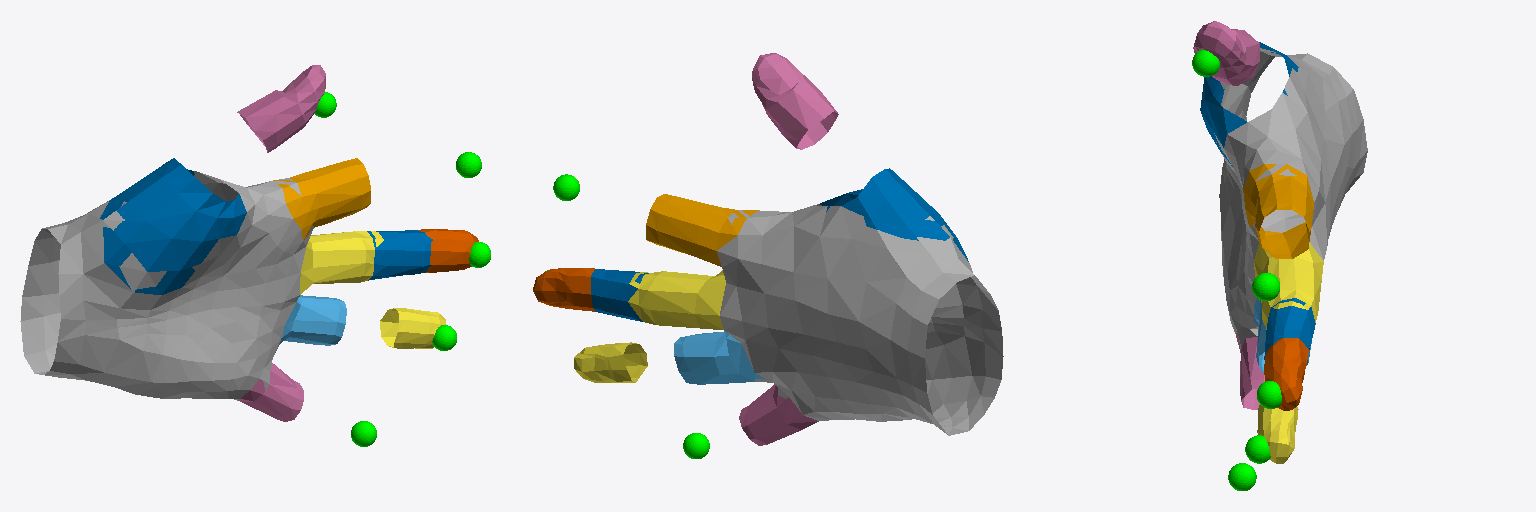
robot.urdf — mano:
<robot name="mano">
  <link name="index1y">
    <inertial>
      <origin xyz="0.0 0.0 0.0" rpy="0.0 -0.0 0.0"/>
      <mass value="0.02"/>
      <inertia ixx="1.6875e-06" ixy="0.0" ixz="0.0" iyy="1.6875e-06" iyz="0.0" izz="1.6875e-06"/>
    </inertial>
  </link>
  <link name="middle1y">
    <inertial>
      <origin xyz="0.0 0.0 0.0" rpy="0.0 -0.0 0.0"/>
      <mass value="0.02"/>
      <inertia ixx="1.6875e-06" ixy="0.0" ixz="0.0" iyy="1.6875e-06" iyz="0.0" izz="1.6875e-06"/>
    </inertial>
  </link>
  <link name="pinky1y">
    <inertial>
      <origin xyz="0.0 0.0 0.0" rpy="0.0 -0.0 0.0"/>
      <mass value="0.02"/>
      <inertia ixx="1.6875e-06" ixy="0.0" ixz="0.0" iyy="1.6875e-06" iyz="0.0" izz="1.6875e-06"/>
    </inertial>
  </link>
  <link name="ring1y">
    <inertial>
      <origin xyz="0.0 0.0 0.0" rpy="0.0 -0.0 0.0"/>
      <mass value="0.02"/>
      <inertia ixx="1.6875e-06" ixy="0.0" ixz="0.0" iyy="1.6875e-06" iyz="0.0" izz="1.6875e-06"/>
    </inertial>
  </link>
  <link name="thumb1x">
    <inertial>
      <origin xyz="0.0 0.0 0.0" rpy="0.0 -0.0 0.0"/>
      <mass value="0.02"/>
      <inertia ixx="1.6875e-06" ixy="0.0" ixz="0.0" iyy="1.6875e-06" iyz="0.0" izz="1.6875e-06"/>
    </inertial>
  </link>
  <link name="thumb1y">
    <inertial>
      <origin xyz="0.0 0.0 0.0" rpy="0.0 -0.0 0.0"/>
      <mass value="0.02"/>
      <inertia ixx="1.6875e-06" ixy="0.0" ixz="0.0" iyy="1.6875e-06" iyz="0.0" izz="1.6875e-06"/>
    </inertial>
  </link>
  <link name="thumb2y">
    <inertial>
      <origin xyz="0.0 0.0 0.0" rpy="0.0 -0.0 0.0"/>
      <mass value="0.02"/>
      <inertia ixx="1.6875e-06" ixy="0.0" ixz="0.0" iyy="1.6875e-06" iyz="0.0" izz="1.6875e-06"/>
    </inertial>
  </link>
  <link name="palm">
    <inertial>
      <origin xyz="0.0 0.0 0.0" rpy="0.0 -0.0 0.0"/>
      <mass value="0.2"/>
      <inertia ixx="1.6875e-05" ixy="0.0" ixz="0.0" iyy="1.6875e-05" iyz="0.0" izz="1.6875e-05"/>
    </inertial>
    <visual>
      <geometry>
        <mesh filename="lh_urdf_meshes/palm_vis.obj"/>
      </geometry>
      <origin xyz="0.0 0.0 0.0" rpy="0.0 -0.0 0.0"/>
    </visual>
    <collision>
      <geometry>
        <mesh filename="lh_urdf_meshes/palm_collision.obj"/>
      </geometry>
      <origin xyz="0.0 0.0 0.0" rpy="0.0 -0.0 0.0"/>
    </collision>
  </link>
  <link name="index1z">
    <inertial>
      <origin xyz="0.0 0.0 0.0" rpy="0.0 -0.0 0.0"/>
      <mass value="0.02"/>
      <inertia ixx="1.6875e-06" ixy="0.0" ixz="0.0" iyy="1.6875e-06" iyz="0.0" izz="1.6875e-06"/>
    </inertial>
    <visual>
      <geometry>
        <mesh filename="lh_urdf_meshes/index1_vis.obj"/>
      </geometry>
      <origin xyz="0.0 0.0 0.0" rpy="0.0 0.23063063711477322 0.057403650895187425"/>
    </visual>
    <collision>
      <geometry>
        <mesh filename="lh_urdf_meshes/index1_collision.obj"/>
      </geometry>
      <origin xyz="0.0 0.0 0.0" rpy="0.0 0.23063063711477322 0.057403650895187425"/>
    </collision>
  </link>
  <link name="index2">
    <inertial>
      <origin xyz="0.0 0.0 0.0" rpy="0.0 -0.0 0.0"/>
      <mass value="0.02"/>
      <inertia ixx="1.6875e-06" ixy="0.0" ixz="0.0" iyy="1.6875e-06" iyz="0.0" izz="1.6875e-06"/>
    </inertial>
    <visual>
      <geometry>
        <mesh filename="lh_urdf_meshes/index2_vis.obj"/>
      </geometry>
      <origin xyz="0.0 0.0 0.0" rpy="0.0 0.06774013160049815 -0.12180203232396047"/>
    </visual>
    <collision>
      <geometry>
        <mesh filename="lh_urdf_meshes/index2_collision.obj"/>
      </geometry>
      <origin xyz="0.0 0.0 0.0" rpy="0.0 0.06774013160049815 -0.12180203232396047"/>
    </collision>
  </link>
  <link name="index3">
    <inertial>
      <origin xyz="0.0 0.0 0.0" rpy="0.0 -0.0 0.0"/>
      <mass value="0.02"/>
      <inertia ixx="1.6875e-06" ixy="0.0" ixz="0.0" iyy="1.6875e-06" iyz="0.0" izz="1.6875e-06"/>
    </inertial>
    <visual>
      <geometry>
        <mesh filename="lh_urdf_meshes/index3_vis.obj"/>
      </geometry>
      <origin xyz="0.0 0.0 0.0" rpy="0.0 -0.00515032824277527 0.058536141823204185"/>
    </visual>
    <collision>
      <geometry>
        <mesh filename="lh_urdf_meshes/index3_collision.obj"/>
      </geometry>
      <origin xyz="0.0 0.0 0.0" rpy="0.0 -0.00515032824277527 0.058536141823204185"/>
    </collision>
  </link>
  <link name="middle1z">
    <inertial>
      <origin xyz="0.0 0.0 0.0" rpy="0.0 -0.0 0.0"/>
      <mass value="0.02"/>
      <inertia ixx="1.6875e-06" ixy="0.0" ixz="0.0" iyy="1.6875e-06" iyz="0.0" izz="1.6875e-06"/>
    </inertial>
    <visual>
      <geometry>
        <mesh filename="lh_urdf_meshes/middle1_vis.obj"/>
      </geometry>
      <origin xyz="0.0 0.0 0.0" rpy="0.0 -0.03545443625367999 0.015612804261896672"/>
    </visual>
    <collision>
      <geometry>
        <mesh filename="lh_urdf_meshes/middle1_collision.obj"/>
      </geometry>
      <origin xyz="0.0 0.0 0.0" rpy="0.0 -0.03545443625367999 0.015612804261896672"/>
    </collision>
  </link>
  <link name="middle2">
    <inertial>
      <origin xyz="0.0 0.0 0.0" rpy="0.0 -0.0 0.0"/>
      <mass value="0.02"/>
      <inertia ixx="1.6875e-06" ixy="0.0" ixz="0.0" iyy="1.6875e-06" iyz="0.0" izz="1.6875e-06"/>
    </inertial>
    <visual>
      <geometry>
        <mesh filename="lh_urdf_meshes/middle2_vis.obj"/>
      </geometry>
      <origin xyz="0.0 0.0 0.0" rpy="0.0 -0.17752220465019572 -0.05868556302164682"/>
    </visual>
    <collision>
      <geometry>
        <mesh filename="lh_urdf_meshes/middle2_collision.obj"/>
      </geometry>
      <origin xyz="0.0 0.0 0.0" rpy="0.0 -0.17752220465019572 -0.05868556302164682"/>
    </collision>
  </link>
  <link name="middle3">
    <inertial>
      <origin xyz="0.0 0.0 0.0" rpy="0.0 -0.0 0.0"/>
      <mass value="0.02"/>
      <inertia ixx="1.6875e-06" ixy="0.0" ixz="0.0" iyy="1.6875e-06" iyz="0.0" izz="1.6875e-06"/>
    </inertial>
    <visual>
      <geometry>
        <mesh filename="lh_urdf_meshes/middle3_vis.obj"/>
      </geometry>
      <origin xyz="0.0 0.0 0.0" rpy="0.0 -0.17054170067823277 0.05382083887133812"/>
    </visual>
    <collision>
      <geometry>
        <mesh filename="lh_urdf_meshes/middle3_collision.obj"/>
      </geometry>
      <origin xyz="0.0 0.0 0.0" rpy="0.0 -0.17054170067823277 0.05382083887133812"/>
    </collision>
  </link>
  <link name="pinky1z">
    <inertial>
      <origin xyz="0.0 0.0 0.0" rpy="0.0 -0.0 0.0"/>
      <mass value="0.02"/>
      <inertia ixx="1.6875e-06" ixy="0.0" ixz="0.0" iyy="1.6875e-06" iyz="0.0" izz="1.6875e-06"/>
    </inertial>
    <visual>
      <geometry>
        <mesh filename="lh_urdf_meshes/pinky1_vis.obj"/>
      </geometry>
      <origin xyz="0.0 0.0 0.0" rpy="0.0 -0.5608697975864703 0.12176378884792344"/>
    </visual>
    <collision>
      <geometry>
        <mesh filename="lh_urdf_meshes/pinky1_collision.obj"/>
      </geometry>
      <origin xyz="0.0 0.0 0.0" rpy="0.0 -0.5608697975864703 0.12176378884792344"/>
    </collision>
  </link>
  <link name="pinky2">
    <inertial>
      <origin xyz="0.0 0.0 0.0" rpy="0.0 -0.0 0.0"/>
      <mass value="0.02"/>
      <inertia ixx="1.6875e-06" ixy="0.0" ixz="0.0" iyy="1.6875e-06" iyz="0.0" izz="1.6875e-06"/>
    </inertial>
    <visual>
      <geometry>
        <mesh filename="lh_urdf_meshes/pinky2_vis.obj"/>
      </geometry>
      <origin xyz="0.0 0.0 0.0" rpy="0.0 -0.6335719573023821 -0.002928439015204585"/>
    </visual>
    <collision>
      <geometry>
        <mesh filename="lh_urdf_meshes/pinky2_collision.obj"/>
      </geometry>
      <origin xyz="0.0 0.0 0.0" rpy="0.0 -0.6335719573023821 -0.002928439015204585"/>
    </collision>
  </link>
  <link name="pinky3">
    <inertial>
      <origin xyz="0.0 0.0 0.0" rpy="0.0 -0.0 0.0"/>
      <mass value="0.02"/>
      <inertia ixx="1.6875e-06" ixy="0.0" ixz="0.0" iyy="1.6875e-06" iyz="0.0" izz="1.6875e-06"/>
    </inertial>
    <visual>
      <geometry>
        <mesh filename="lh_urdf_meshes/pinky3_vis.obj"/>
      </geometry>
      <origin xyz="0.0 0.0 0.0" rpy="0.0 -0.5771905613123103 0.03648662805398939"/>
    </visual>
    <collision>
      <geometry>
        <mesh filename="lh_urdf_meshes/pinky3_collision.obj"/>
      </geometry>
      <origin xyz="0.0 0.0 0.0" rpy="0.0 -0.5771905613123103 0.03648662805398939"/>
    </collision>
  </link>
  <link name="ring1z">
    <inertial>
      <origin xyz="0.0 0.0 0.0" rpy="0.0 -0.0 0.0"/>
      <mass value="0.02"/>
      <inertia ixx="1.6875e-06" ixy="0.0" ixz="0.0" iyy="1.6875e-06" iyz="0.0" izz="1.6875e-06"/>
    </inertial>
    <visual>
      <geometry>
        <mesh filename="lh_urdf_meshes/ring1_vis.obj"/>
      </geometry>
      <origin xyz="0.0 0.0 0.0" rpy="0.0 -0.315439108355595 0.04599601462624259"/>
    </visual>
    <collision>
      <geometry>
        <mesh filename="lh_urdf_meshes/ring1_collision.obj"/>
      </geometry>
      <origin xyz="0.0 0.0 0.0" rpy="0.0 -0.315439108355595 0.04599601462624259"/>
    </collision>
  </link>
  <link name="ring2">
    <inertial>
      <origin xyz="0.0 0.0 0.0" rpy="0.0 -0.0 0.0"/>
      <mass value="0.02"/>
      <inertia ixx="1.6875e-06" ixy="0.0" ixz="0.0" iyy="1.6875e-06" iyz="0.0" izz="1.6875e-06"/>
    </inertial>
    <visual>
      <geometry>
        <mesh filename="lh_urdf_meshes/ring2_vis.obj"/>
      </geometry>
      <origin xyz="0.0 0.0 0.0" rpy="0.0 -0.17816025261504345 -0.07172352458504394"/>
    </visual>
    <collision>
      <geometry>
        <mesh filename="lh_urdf_meshes/ring2_collision.obj"/>
      </geometry>
      <origin xyz="0.0 0.0 0.0" rpy="0.0 -0.17816025261504345 -0.07172352458504394"/>
    </collision>
  </link>
  <link name="ring3">
    <inertial>
      <origin xyz="0.0 0.0 0.0" rpy="0.0 -0.0 0.0"/>
      <mass value="0.02"/>
      <inertia ixx="1.6875e-06" ixy="0.0" ixz="0.0" iyy="1.6875e-06" iyz="0.0" izz="1.6875e-06"/>
    </inertial>
    <visual>
      <geometry>
        <mesh filename="lh_urdf_meshes/ring3_vis.obj"/>
      </geometry>
      <origin xyz="0.0 0.0 0.0" rpy="0.0 -0.31383376949637776 0.06816054587002773"/>
    </visual>
    <collision>
      <geometry>
        <mesh filename="lh_urdf_meshes/ring3_collision.obj"/>
      </geometry>
      <origin xyz="0.0 0.0 0.0" rpy="0.0 -0.31383376949637776 0.06816054587002773"/>
    </collision>
  </link>
  <link name="thumb1z">
    <inertial>
      <origin xyz="0.0 0.0 0.0" rpy="0.0 -0.0 0.0"/>
      <mass value="0.02"/>
      <inertia ixx="1.6875e-06" ixy="0.0" ixz="0.0" iyy="1.6875e-06" iyz="0.0" izz="1.6875e-06"/>
    </inertial>
    <visual>
      <geometry>
        <mesh filename="lh_urdf_meshes/thumb1_vis.obj"/>
      </geometry>
      <origin xyz="0.0 0.0 0.0" rpy="-1.400772198896638 0.6846460315390974 -0.6329395640223026"/>
    </visual>
    <collision>
      <geometry>
        <mesh filename="lh_urdf_meshes/thumb1_collision.obj"/>
      </geometry>
      <origin xyz="0.0 0.0 0.0" rpy="-1.400772198896638 0.6846460315390974 -0.6329395640223026"/>
    </collision>
  </link>
  <link name="thumb2z">
    <inertial>
      <origin xyz="0.0 0.0 0.0" rpy="0.0 -0.0 0.0"/>
      <mass value="0.02"/>
      <inertia ixx="1.6875e-06" ixy="0.0" ixz="0.0" iyy="1.6875e-06" iyz="0.0" izz="1.6875e-06"/>
    </inertial>
    <visual>
      <geometry>
        <mesh filename="lh_urdf_meshes/thumb2_vis.obj"/>
      </geometry>
      <origin xyz="0.0 0.0 0.0" rpy="-1.1284509073890594 0.4440110479448864 -0.7867444289736606"/>
    </visual>
    <collision>
      <geometry>
        <mesh filename="lh_urdf_meshes/thumb2_collision.obj"/>
      </geometry>
      <origin xyz="0.0 0.0 0.0" rpy="-1.1284509073890594 0.4440110479448864 -0.7867444289736606"/>
    </collision>
  </link>
  <link name="thumb3">
    <inertial>
      <origin xyz="0.0 0.0 0.0" rpy="0.0 -0.0 0.0"/>
      <mass value="0.02"/>
      <inertia ixx="1.6875e-06" ixy="0.0" ixz="0.0" iyy="1.6875e-06" iyz="0.0" izz="1.6875e-06"/>
    </inertial>
    <visual>
      <geometry>
        <mesh filename="lh_urdf_meshes/thumb3_vis.obj"/>
      </geometry>
      <origin xyz="0.0 0.0 0.0" rpy="-1.1422775881551688 0.45888297500015185 -0.4161802232588264"/>
    </visual>
    <collision>
      <geometry>
        <mesh filename="lh_urdf_meshes/thumb3_collision.obj"/>
      </geometry>
      <origin xyz="0.0 0.0 0.0" rpy="-1.1422775881551688 0.45888297500015185 -0.4161802232588264"/>
    </collision>
  </link>
  <joint name="j_index1y" type="revolute">
    <limit effort="100.0" velocity="100.0" lower="-0.174532925199432959" upper="0.174532925199432959"/>
    <parent link="palm"/>
    <child link="index1y"/>
    <axis xyz="0. -1. 0."/>
    <origin xyz="0.08809723 -0.00520036  0.02068599" rpy="0.013470658213123427 -0.23024387720962222 -0.0589613242234501"/>
  </joint>
  <joint name="j_index1z" type="revolute">
    <limit effort="100.0" velocity="100.0" lower="-0.0" upper="1.5707963267948966"/>
    <parent link="index1y"/>
    <child link="index1z"/>
    <axis xyz="0. 0. -1."/>
    <origin xyz="0.0 0.0 0.0" rpy="0.0 -0.0 0.0"/>
  </joint>
  <joint name="j_index2" type="revolute">
    <limit effort="100.0" velocity="100.0" lower="0.0" upper="1.7453292519943295"/>
    <parent link="index1z"/>
    <child link="index2"/>
    <axis xyz="0. 0. -1."/>
    <origin xyz="0.03203719  0.00585704 -0.00531176" rpy="0.01996564157847688 0.16167303535093522 0.18082318120531427"/>
  </joint>
  <joint name="j_index3" type="revolute">
    <limit effort="100.0" velocity="100.0" lower="0.0" upper="1.3962634015954636"/>
    <parent link="index2"/>
    <child link="index3"/>
    <axis xyz="0. 0. -1."/>
    <origin xyz="0.0217759  -0.00397366 -0.00161355" rpy="-0.004271832059105682 0.07276540610740925 -0.18049367999977287"/>
  </joint>
  <joint name="j_middle1y" type="revolute">
    <limit effort="100.0" velocity="100.0" lower="-0.17453292519943295" upper="0.174532925199432959"/>
    <parent link="palm"/>
    <child link="middle1y"/>
    <axis xyz="0. -1. 0."/>
    <origin xyz="0.09466042 -0.00147896 -0.00335754" rpy="-0.000553752665856683 0.035450112201732754 -0.015622619785205837"/>
  </joint>
  <joint name="j_middle1z" type="revolute">
    <limit effort="100.0" velocity="100.0" lower="-0.0" upper="1.5707963267948966"/>
    <parent link="middle1y"/>
    <child link="middle1z"/>
    <axis xyz="0. 0. -1."/>
    <origin xyz="0.0 0.0 0.0" rpy="0.0 -0.0 0.0"/>
  </joint>
  <joint name="j_middle2" type="revolute">
    <limit effort="100.0" velocity="100.0" lower="0.0" upper="1.7453292519943295"/>
    <parent link="middle1z"/>
    <child link="middle2"/>
    <axis xyz="0. 0. -1."/>
    <origin xyz="0.0313285   0.00235072 -0.00448566" rpy="0.008388861175115433 0.1418215484082801 0.07489423740983582"/>
  </joint>
  <joint name="j_middle3" type="revolute">
    <limit effort="100.0" velocity="100.0" lower="0.0" upper="1.3962634015954636"/>
    <parent link="middle2"/>
    <child link="middle3"/>
    <axis xyz="0. 0. -1."/>
    <origin xyz="0.02312781 -0.00261309  0.00016224" rpy="0.00037552151984084536 -0.00697038295282378 -0.11250770195968576"/>
  </joint>
  <joint name="j_pinky1y" type="revolute">
    <limit effort="100.0" velocity="100.0" lower="-0.174532925199432959" upper="0.174532925199432959"/>
    <parent link="palm"/>
    <child link="pinky1y"/>
    <axis xyz="0. -1. 0."/>
    <origin xyz="0.06878695 -0.00994033 -0.04320934" rpy="-0.07615094905488691 0.5562255691071728 -0.1435154495048137"/>
  </joint>
  <joint name="j_pinky1z" type="revolute">
    <limit effort="100.0" velocity="100.0" lower="-0.0" upper="1.5707963267948966"/>
    <parent link="pinky1y"/>
    <child link="pinky1z"/>
    <axis xyz="0. 0. -1."/>
    <origin xyz="0.0 0.0 0.0" rpy="0.0 -0.0 0.0"/>
  </joint>
  <joint name="j_pinky2" type="revolute">
    <limit effort="100.0" velocity="100.0" lower="0.0" upper="1.7453292519943295"/>
    <parent link="pinky1z"/>
    <child link="pinky2"/>
    <axis xyz="0. 0. -1."/>
    <origin xyz="0.02089266  0.0026189  -0.00153353" rpy="0.0002132797319964525 0.07270191608609165 0.12469998566646391"/>
  </joint>
  <joint name="j_pinky3" type="revolute">
    <limit effort="100.0" velocity="100.0" lower="0.0" upper="1.3962634015954636"/>
    <parent link="pinky2"/>
    <child link="pinky3"/>
    <axis xyz="0. 0. -1."/>
    <origin xyz="0.01890208 -0.00074651  0.00106698" rpy="0.002058891090839035 -0.05634385166507855 -0.03947308259302378"/>
  </joint>
  <joint name="j_ring1y" type="revolute">
    <limit effort="100.0" velocity="100.0" lower="-0.17453292519943295" upper="0.174532925199432959"/>
    <parent link="palm"/>
    <child link="ring1y"/>
    <axis xyz="0. -1. 0."/>
    <origin xyz="0.08173554 -0.00395742 -0.02667319" rpy="-0.01500370311618516 0.31509397548878065 -0.04837960266200507"/>
  </joint>
  <joint name="j_ring1z" type="revolute">
    <limit effort="100.0" velocity="100.0" lower="-0.0" upper="1.5707963267948966"/>
    <parent link="ring1y"/>
    <child link="ring1z"/>
    <axis xyz="0. 0. -1."/>
    <origin xyz="0.0 0.0 0.0" rpy="0.0 -0.0 0.0"/>
  </joint>
  <joint name="j_ring2" type="revolute">
    <limit effort="100.0" velocity="100.0" lower="0.0" upper="1.7453292519943295"/>
    <parent link="ring1z"/>
    <child link="ring2"/>
    <axis xyz="0. 0. -1."/>
    <origin xyz="0.02837381  0.0033752   0.00393707" rpy="-0.009899628390981003 -0.13692367845573705 0.11839834593973013"/>
  </joint>
  <joint name="j_ring3" type="revolute">
    <limit effort="100.0" velocity="100.0" lower="0.0" upper="1.3962634015954636"/>
    <parent link="ring2"/>
    <child link="ring3"/>
    <axis xyz="0. 0. -1."/>
    <origin xyz="0.02431711 -0.00343957 -0.0033447" rpy="-0.00929727034850239 0.1353565122304786 -0.14051426060725125"/>
  </joint>
  <joint name="j_thumb1x" type="revolute">
    <limit effort="100.0" velocity="100.0" lower="-0.0" upper="1.0471975511965976"/>
    <parent link="palm"/>
    <child link="thumb1x"/>
    <axis xyz="1. 0. 0."/>
    <origin xyz="0.02408969 -0.01552234  0.02581285" rpy="1.3934614224320991 -0.7332206451663358 -0.5723973954752037"/>
  </joint>
  <joint name="j_thumb1y" type="revolute">
    <limit effort="100.0" velocity="100.0" lower="-0.2617993877991494" upper="1.0471975511965976"/>
    <parent link="thumb1x"/>
    <child link="thumb1y"/>
    <axis xyz="0. -1. 0."/>
    <origin xyz="0.0 0.0 0.0" rpy="0.0 -0.0 0.0"/>
  </joint>
  <joint name="j_thumb1z" type="revolute">
    <limit effort="100.0" velocity="100.0" lower="-1.0471975511965976" upper="1.0471975511965976"/>
    <parent link="thumb1y"/>
    <child link="thumb1z"/>
    <axis xyz="0. 0. -1."/>
    <origin xyz="0.0 0.0 0.0" rpy="0.0 -0.0 0.0"/>
  </joint>
  <joint name="j_thumb2y" type="revolute">
    <limit effort="100.0" velocity="100.0" lower="-0.17453292519943295" upper="0.17453292519943295"/>
    <parent link="thumb1z"/>
    <child link="thumb2y"/>
    <axis xyz="0. -1. 0."/>
    <origin xyz="0.02776529  0.0087871  -0.00999011" rpy="0.03203481717857722 0.33045795856477606 0.30650457184619034"/>
  </joint>
  <joint name="j_thumb2z" type="revolute">
    <limit effort="100.0" velocity="100.0" lower="0.0" upper="1.5707963267948966"/>
    <parent link="thumb2y"/>
    <child link="thumb2z"/>
    <axis xyz="0. 0. -1."/>
    <origin xyz="0.0 0.0 0.0" rpy="0.0 -0.0 0.0"/>
  </joint>
  <joint name="j_thumb3" type="revolute">
    <limit effort="100.0" velocity="100.0" lower="0.0" upper="1.3962634015954636"/>
    <parent link="thumb2z"/>
    <child link="thumb3"/>
    <axis xyz="0. 0. -1."/>
    <origin xyz="0.02519061 -0.00996365  0.00050434" rpy="0.0054242033056174305 -0.01861556315377176 -0.37664715498283646"/>
  </joint>
  <link name="thumb_tip">
    <visual>
      <origin
        xyz="0 0 0"
        rpy="0 0 0" />
      <geometry>
        <sphere radius="0.005"/>
      </geometry>
      <material name="green">
        <color rgba="0 1 0 1" />
      </material>
    </visual>
  </link>
  <joint name="j_thumb_tip" type="fixed">
    <parent link="thumb3"/>
    <child link="thumb_tip"/>
    <origin rpy="0 0 0" xyz="0.026822 -0.00565 -0.0"/>
  </joint>
  <link name="index_tip">
    <visual>
      <origin
        xyz="0 0 0"
        rpy="0 0 0" />
      <geometry>
        <sphere radius="0.005"/>
      </geometry>
      <material name="green">
        <color rgba="0 1 0 1" />
      </material>
    </visual>
  </link>
  <joint name="j_index_tip" type="fixed">
    <parent link="index3"/>
    <child link="index_tip"/>
    <origin rpy="0 0 0" xyz="0.023106 -0.003671 -0.0"/>
  </joint>
  <link name="middle_tip">
    <visual>
      <origin
        xyz="0 0 0"
        rpy="0 0 0" />
      <geometry>
        <sphere radius="0.005"/>
      </geometry>
      <material name="green">
        <color rgba="0 1 0 1" />
      </material>
    </visual>
  </link>
  <joint name="j_middle_tip" type="fixed">
    <parent link="middle3"/>
    <child link="middle_tip"/>
    <origin rpy="0 0 0" xyz="0.022723 -0.003808 -0.0"/>
  </joint>
  <link name="ring_tip">
    <visual>
      <origin
        xyz="0 0 0"
        rpy="0 0 0" />
      <geometry>
        <sphere radius="0.005"/>
      </geometry>
      <material name="green">
        <color rgba="0 1 0 1" />
      </material>
    </visual>
  </link>
  <joint name="j_ring_tip" type="fixed">
    <parent link="ring3"/>
    <child link="ring_tip"/>
    <origin rpy="0 0 0" xyz="0.021453 -0.00486 -0.0"/>
  </joint>
  <link name="pinky_tip">
    <visual>
      <origin
        xyz="0 0 0"
        rpy="0 0 0" />
      <geometry>
        <sphere radius="0.005"/>
      </geometry>
      <material name="green">
        <color rgba="0 1 0 1" />
      </material>
    </visual>
  </link>
  <joint name="j_pinky_tip" type="fixed">
    <parent link="pinky3"/>
    <child link="pinky_tip"/>
    <origin rpy="0 0 0" xyz="0.016054 -0.004705 -0.0"/>
  </joint>
</robot>

--- Render facts (derived) ---
The picture shows the robot from 3 angles, left to right: view 1: azimuth 30°, elevation 25°; view 2: azimuth 150°, elevation 25°; view 3: azimuth 270°, elevation 25°; orthographic projection.
Model mano with 28 links and 27 joints (22 revolute, 5 fixed), rooted at palm, posed all joints at 0.
Links seen in each view (by area): view 1: palm, thumb1z, index1z, thumb3, middle1z, ring1z, middle2, ring3, pinky1z, middle3, pinky_tip, index_tip; view 2: palm, thumb3, middle1z, thumb1z, index1z, ring1z, pinky1z, ring3, middle3, middle2, index_tip, pinky_tip; view 3: palm, index1z, middle1z, thumb3, middle3, thumb1z, ring3, middle2, pinky1z, index_tip, pinky_tip, thumb_tip (+3 smaller).
Boxes of the visible links, bbox=[...] form: palm: bbox=[20, 171, 313, 399]; thumb1z: bbox=[100, 158, 246, 294]; index1z: bbox=[273, 158, 370, 240]; thumb3: bbox=[237, 65, 325, 152]; middle1z: bbox=[300, 231, 383, 294]; ring1z: bbox=[279, 295, 346, 345]; middle2: bbox=[367, 230, 432, 280]; ring3: bbox=[380, 308, 445, 348]; pinky1z: bbox=[237, 363, 303, 421]; middle3: bbox=[418, 229, 478, 272]; pinky_tip: bbox=[351, 421, 376, 446]; index_tip: bbox=[456, 152, 481, 177]; palm: bbox=[717, 204, 1003, 435]; thumb3: bbox=[752, 53, 838, 149]; middle1z: bbox=[628, 270, 725, 329]; thumb1z: bbox=[820, 168, 968, 261]; index1z: bbox=[646, 194, 758, 266]; ring1z: bbox=[674, 331, 764, 384]; pinky1z: bbox=[739, 384, 818, 445]; ring3: bbox=[574, 342, 647, 382]; middle3: bbox=[533, 268, 594, 311]; middle2: bbox=[591, 269, 648, 321]; index_tip: bbox=[553, 174, 579, 200]; pinky_tip: bbox=[683, 433, 709, 458]; palm: bbox=[1214, 48, 1367, 348]; index1z: bbox=[1243, 164, 1313, 258]; middle1z: bbox=[1254, 242, 1323, 328]; thumb3: bbox=[1193, 21, 1259, 85]; middle3: bbox=[1264, 338, 1308, 410]; thumb1z: bbox=[1200, 42, 1298, 166]; ring3: bbox=[1257, 405, 1298, 463]; middle2: bbox=[1264, 298, 1315, 359]; pinky1z: bbox=[1236, 332, 1264, 409]; index_tip: bbox=[1252, 273, 1279, 300]; pinky_tip: bbox=[1228, 463, 1256, 490]; thumb_tip: bbox=[1192, 49, 1219, 76].
Bounding box of the posed robot: 0.1943 × 0.0617 × 0.1686 m (x, y, z).
10 mesh visuals loaded from 16 distinct referenced files (10 OBJ); not drawn: 6 (reference not matched to a file when rendering).
